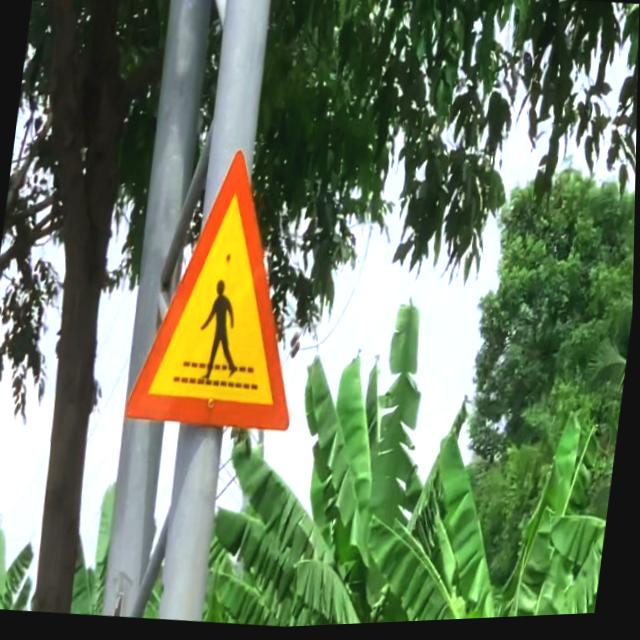Nguoi di bo cat ngang: (111, 132, 336, 458)
